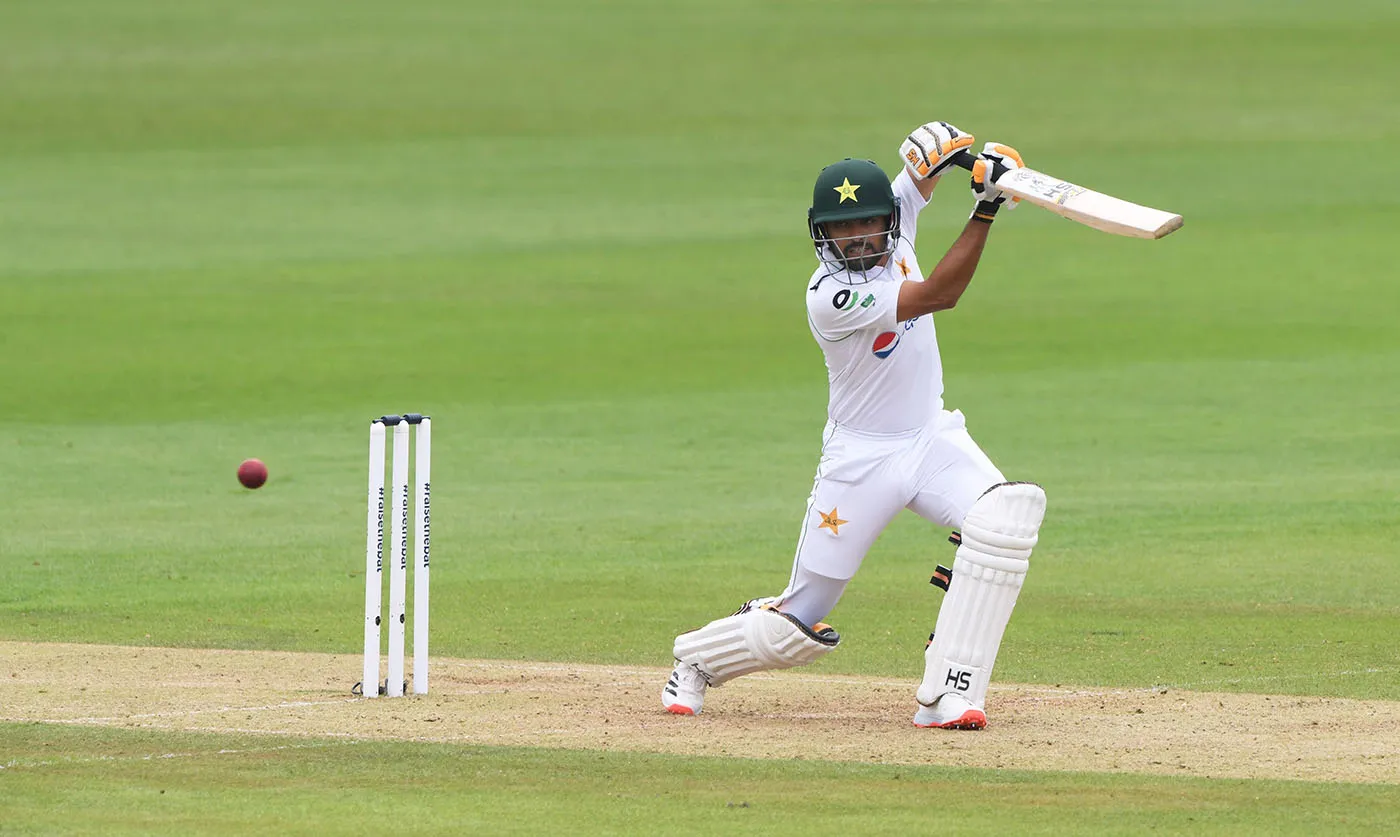Defence: (613, 0, 1237, 837)
